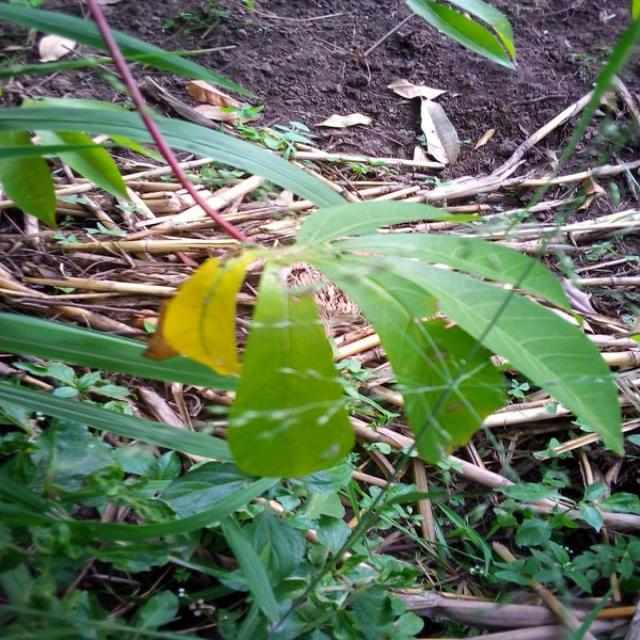cassava leaf: (226, 261, 357, 479), (162, 250, 252, 376), (406, 0, 519, 71)
